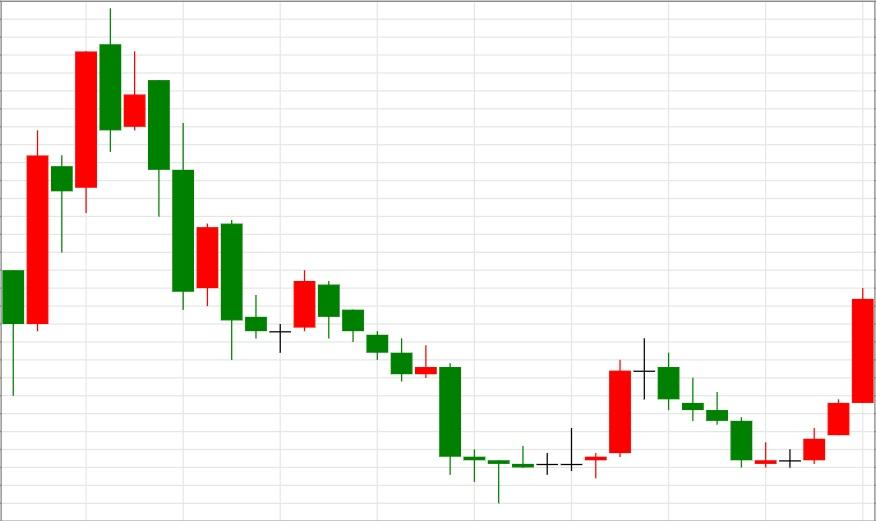evening_star_fall: (488, 337, 680, 503)
three_black_crows_fall: (244, 269, 389, 360)
